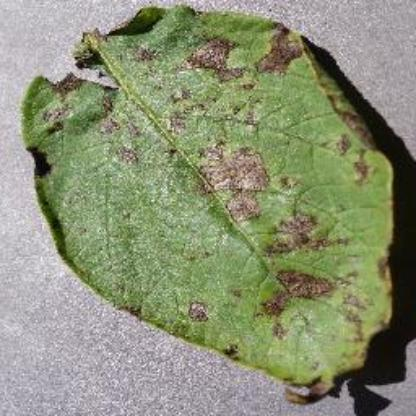Early-Blight: (20, 7, 400, 407)
